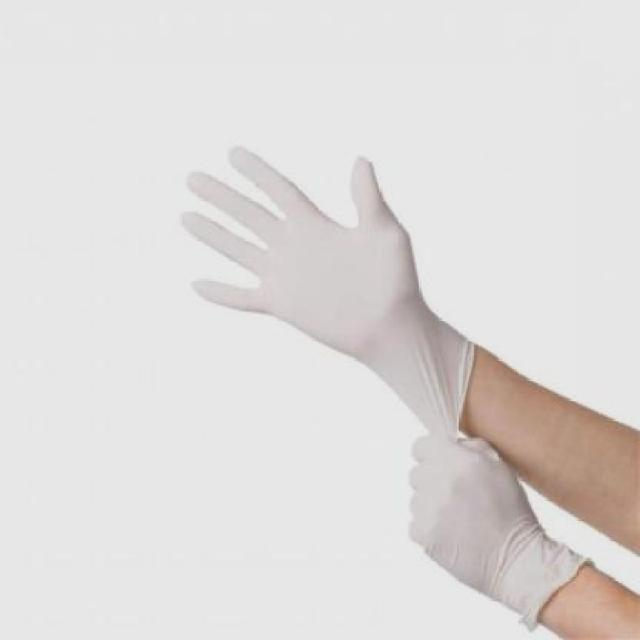glove: (162, 134, 483, 432), (276, 435, 586, 639)
